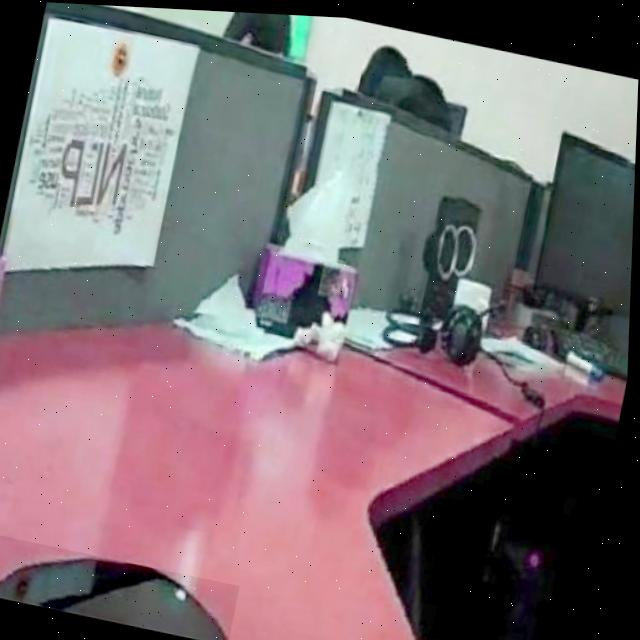spillage: (0, 559, 231, 640)
